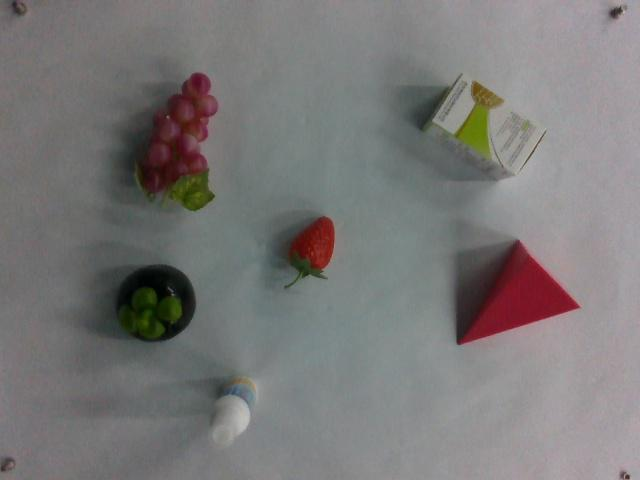carton: (419, 69, 547, 179)
detergent: (209, 369, 260, 451)
grape: (132, 69, 219, 212)
mangosteen: (115, 264, 199, 343)
pyramid: (450, 236, 581, 343)
strawberry: (281, 215, 341, 293)
